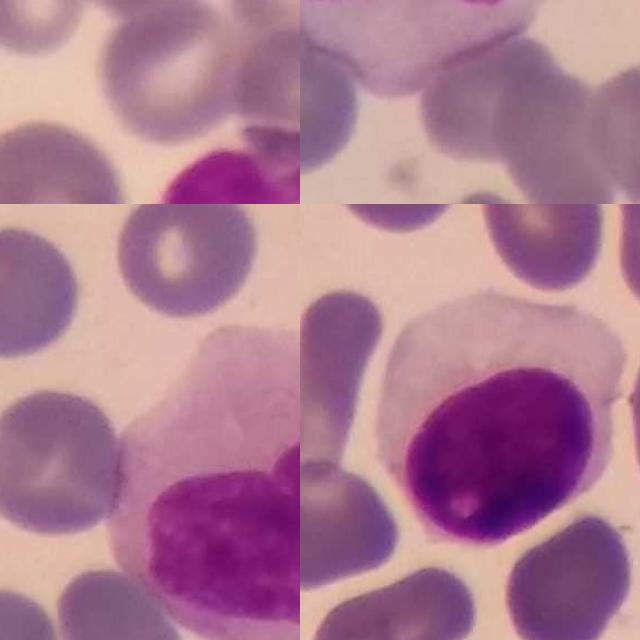Eosinophil: (126, 121, 300, 204)
Lymphocyte: (379, 290, 629, 549)
Monocyte: (107, 325, 300, 640), (300, 0, 592, 95)
